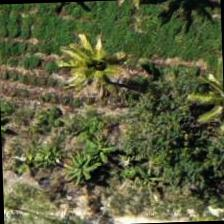Kelapa_Sawit: (57, 17, 150, 110)
